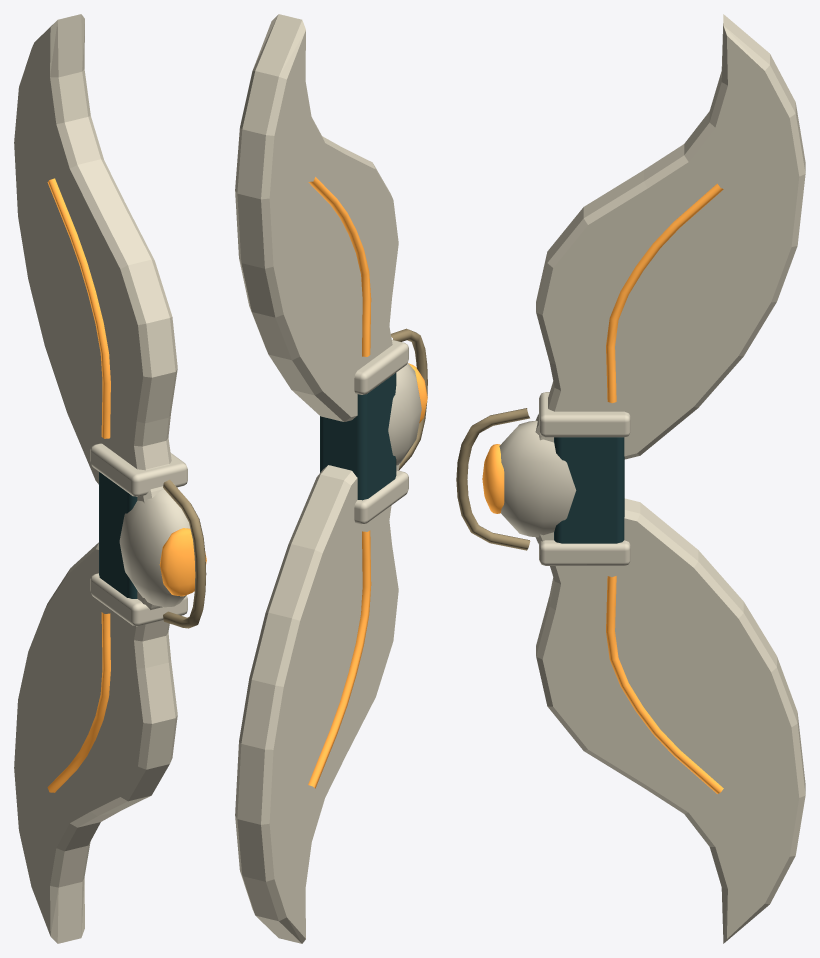
The model's file is piercing.glb.
3 views of the same model, side by side, from view 1: azimuth 30°, elevation 25°; view 2: azimuth 150°, elevation 25°; view 3: azimuth 270°, elevation 25° (orthographic).
Parts seen in each view (by area): view 1: ceramic-mesh, amber-mesh, slate-mesh, edge-mesh; view 2: ceramic-mesh, slate-mesh, amber-mesh, edge-mesh; view 3: ceramic-mesh, slate-mesh, amber-mesh, edge-mesh.
Boxes of the visible parts, x1,y1,x2,y2 form: ceramic-mesh: [14, 14, 190, 943]; amber-mesh: [47, 178, 206, 792]; slate-mesh: [99, 472, 137, 598]; edge-mesh: [163, 479, 206, 628]; ceramic-mesh: [235, 14, 421, 943]; slate-mesh: [320, 373, 396, 500]; amber-mesh: [308, 177, 427, 788]; edge-mesh: [391, 328, 427, 470]; ceramic-mesh: [499, 14, 805, 943]; slate-mesh: [554, 437, 624, 543]; amber-mesh: [482, 183, 723, 793]; edge-mesh: [456, 408, 530, 550].
Size of the model in its own units: 0.0343 by 0.4858 by 0.1674.
